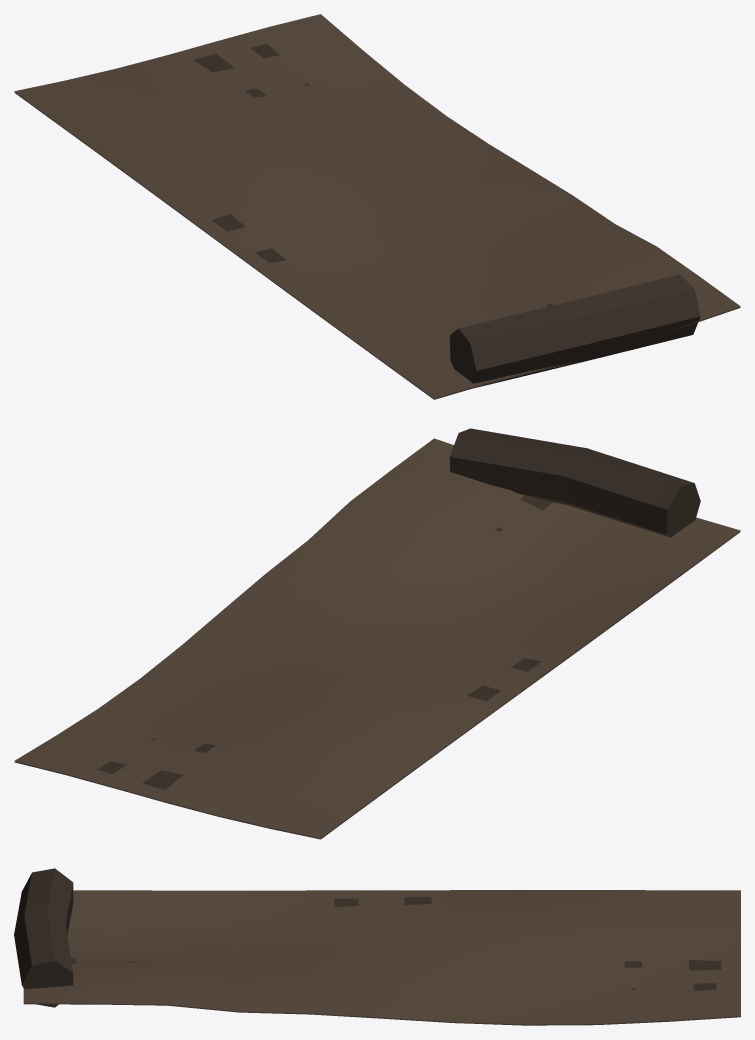
The model's file is bedroll_open.glb.
The picture shows the model from 3 angles, top to bottom: view 1: azimuth 30°, elevation 25°; view 2: azimuth 150°, elevation 25°; view 3: azimuth 270°, elevation 25°; orthographic projection. The views are drawn at different scales.
Parts seen in each view (by area): view 1: bedroll_open; view 2: bedroll_open; view 3: bedroll_open.
Boxes of the visible parts, x1,y1,x2,y2 form: bedroll_open: (14,14,740,399); bedroll_open: (14,428,740,839); bedroll_open: (14,868,740,1025).
Bounding box in the file's own units: 0.78 × 0.1464 × 1.88.
